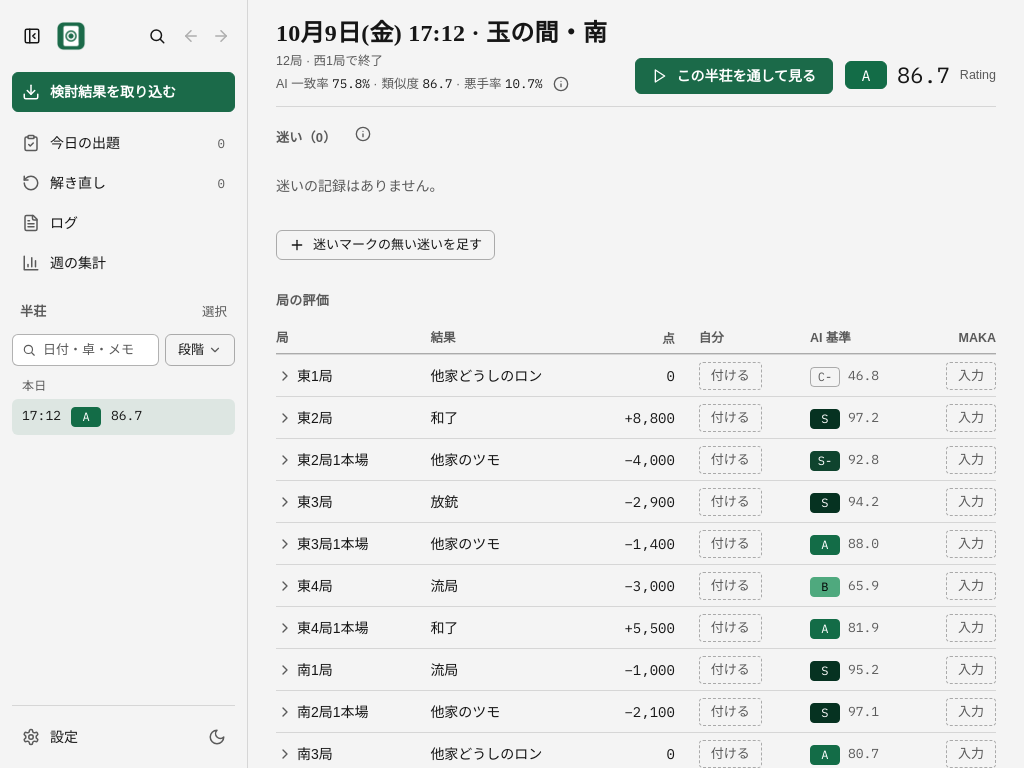
Test: U-31 局の評価の表の下の、MAKA の当てはめの見込み › 基礎と同じ半荘（f9da…）の局に入れた評価は、基礎の記録を置き換える: 局数は 67局のまま、数字だけが替わる
This screenshot has width=1024, height=768.
Note: 東2局の MAKA は、基礎では S。D と入れ直す
Step 1. Click the button with aria-label "東2局の MAKA を入力" → (971,418), box [946,404,996,432]
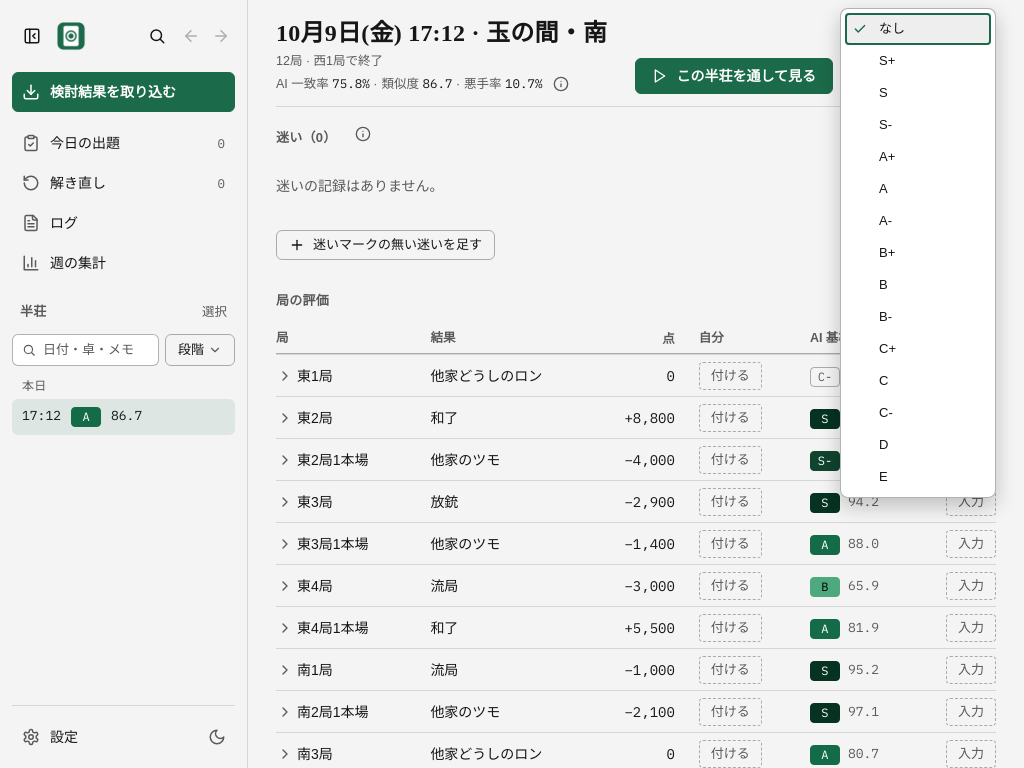
Step 2. Click the menu item "D" → (918,445), box [845,429,991,461]
(page scrolled)
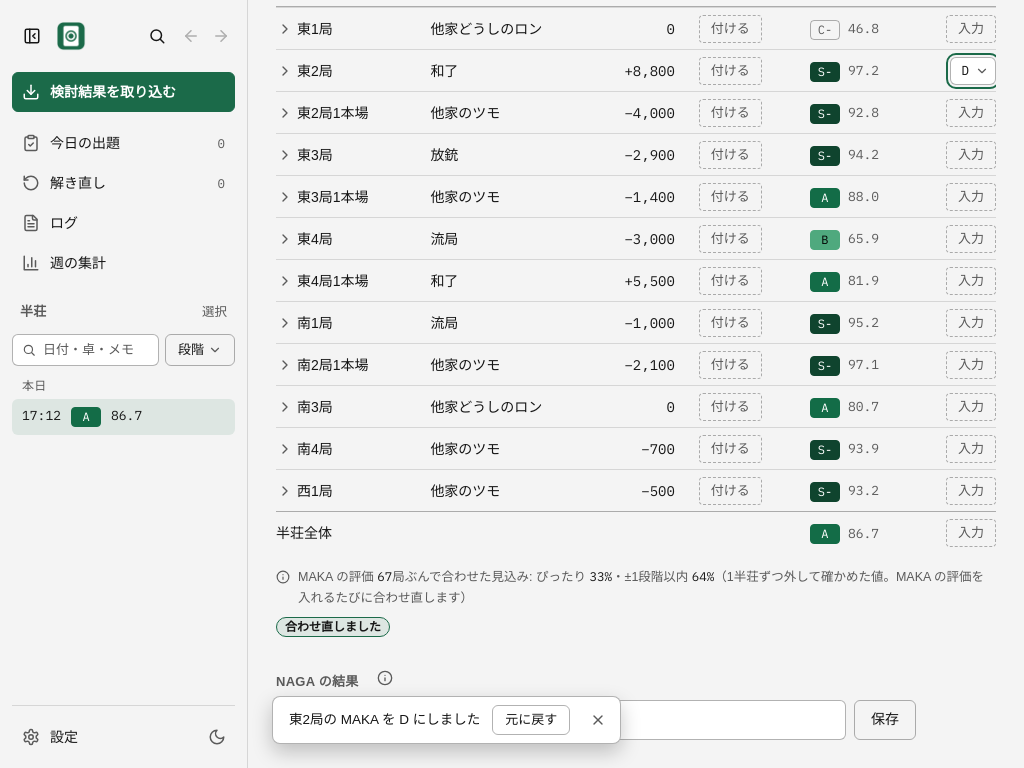
Expected: the message reads "合わせ直しました", [285,620,381,634]
